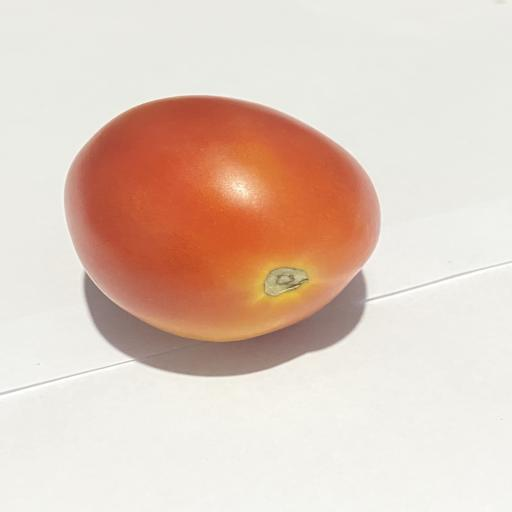ripe: (65, 96, 380, 341)
